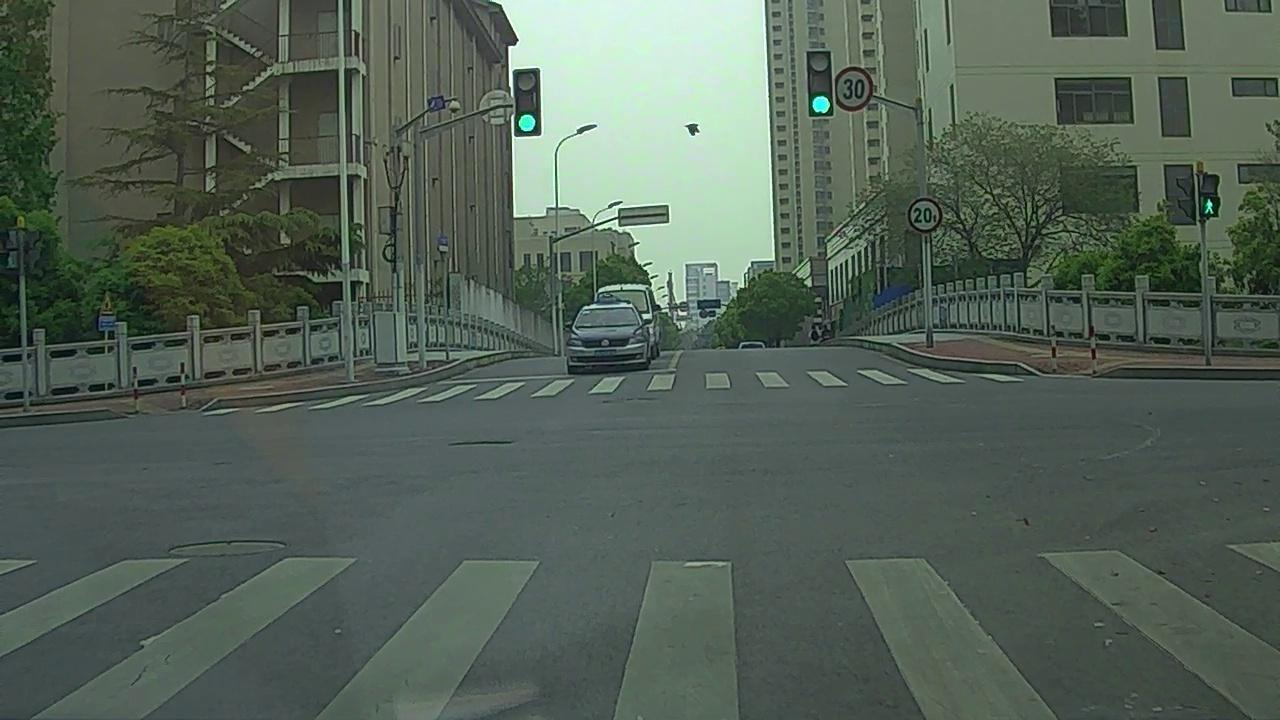traffic_light: (809, 49, 834, 117), (515, 72, 540, 135)
